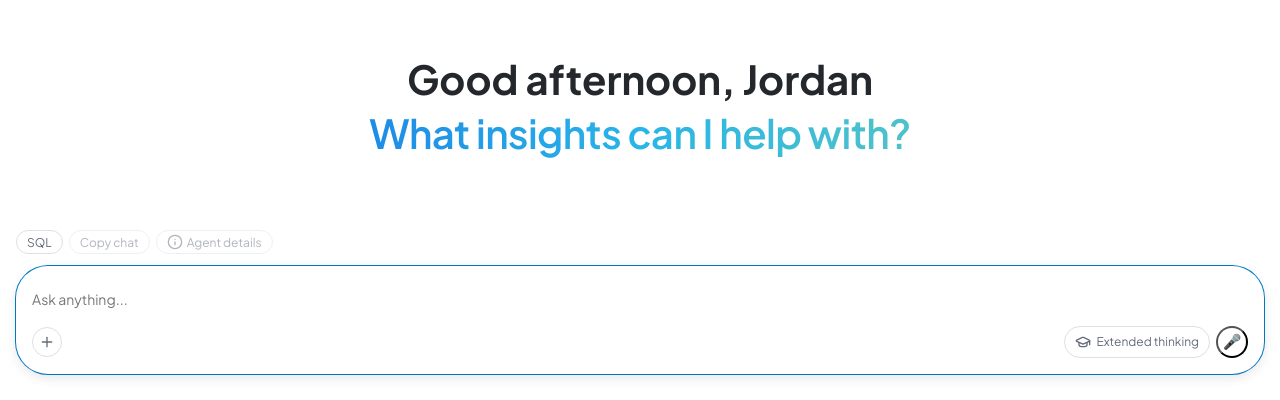
Test: ChatContainer record context › keeps date/user off the query and passes the name through to the stream
This screenshot has width=1280, height=400.
Type "What changed today?" into the text box with placeholder "Ask anything...". click: [640, 300]
box: [32, 282, 1248, 318]
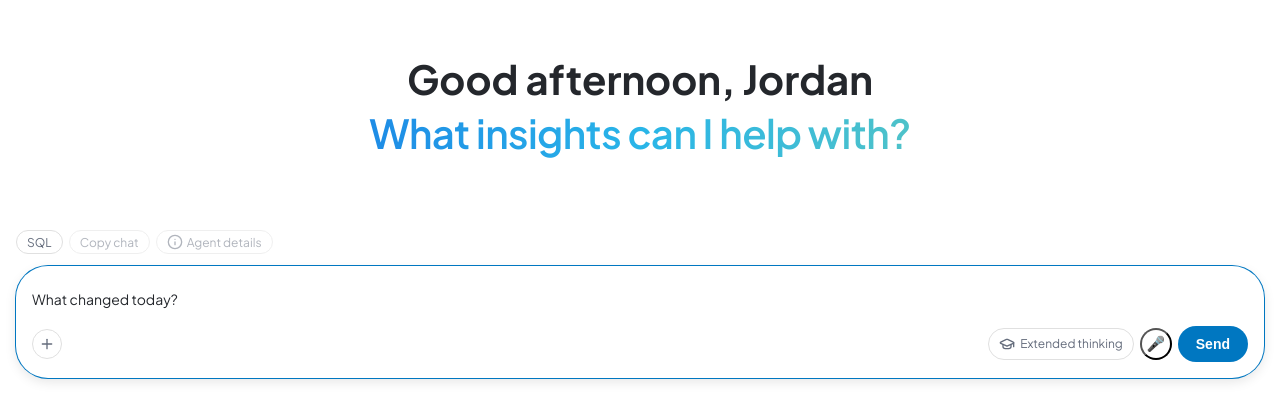
Click the button "Send". click: [1213, 344]
box: [1178, 326, 1248, 362]
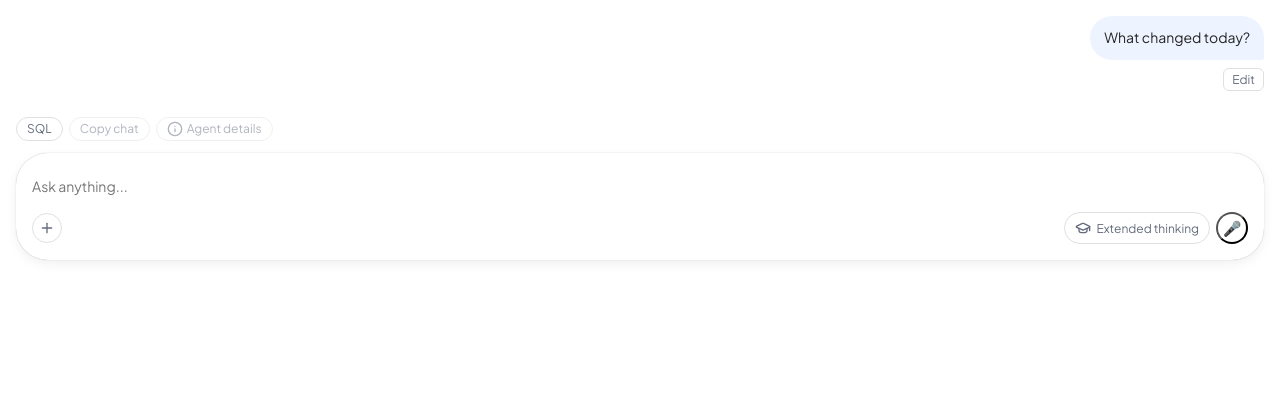
Result: the text "What changed today?" is shown at [1090, 16, 1264, 60]
